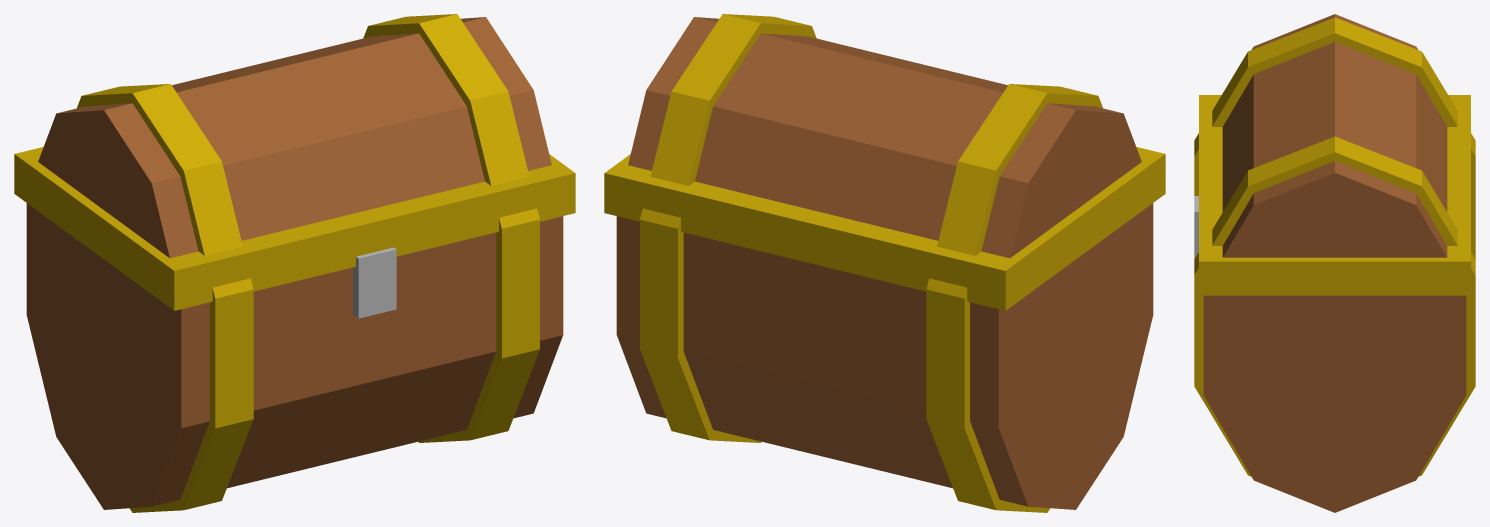
The model's file is chest1.obj.
The picture shows the model from 3 angles, left to right: view 1: azimuth 30°, elevation 25°; view 2: azimuth 150°, elevation 25°; view 3: azimuth 270°, elevation 25°; orthographic projection. The views are drawn at different scales.
Visible parts, largest first — view 1: Object.1, Object.2, Object.4, Object.5, Object.3; view 2: Object.1, Object.2, Object.4, Object.5; view 3: Object.1, Object.2, Object.5, Object.4.
Boxes of the visible parts, bbox=[...] form: Object.1: bbox=[26, 17, 563, 509]; Object.2: bbox=[14, 147, 575, 310]; Object.4: bbox=[77, 84, 253, 512]; Object.5: bbox=[363, 14, 539, 442]; Object.3: bbox=[353, 247, 396, 318]; Object.1: bbox=[616, 17, 1153, 509]; Object.2: bbox=[604, 147, 1165, 310]; Object.4: bbox=[926, 84, 1102, 512]; Object.5: bbox=[640, 14, 816, 442]; Object.1: bbox=[1203, 14, 1466, 512]; Object.2: bbox=[1199, 95, 1470, 295]; Object.5: bbox=[1194, 136, 1475, 476]; Object.4: bbox=[1194, 17, 1475, 258].
Size of the model in its own units: 1 by 1 by 0.7143.
